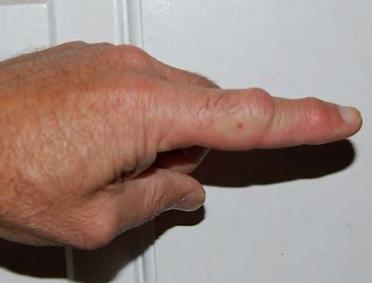Wasp: (205, 115, 278, 140)
